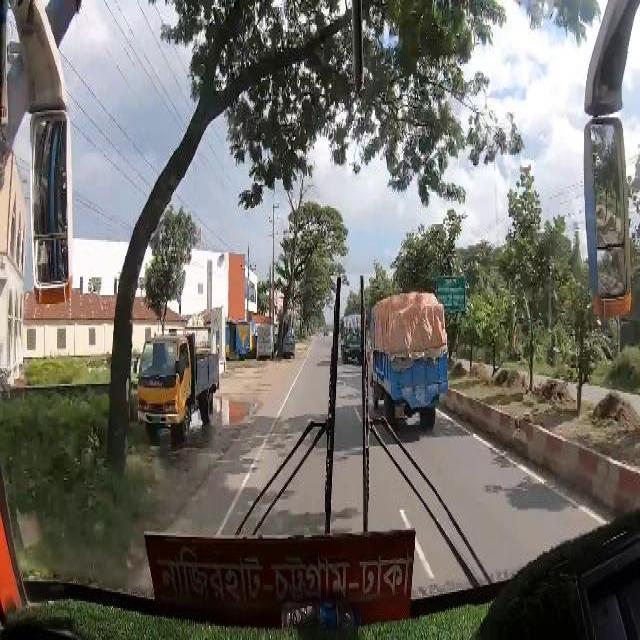vehicle: (369, 294, 450, 431), (135, 337, 225, 437), (341, 313, 365, 361), (236, 321, 255, 353), (257, 326, 275, 356)
